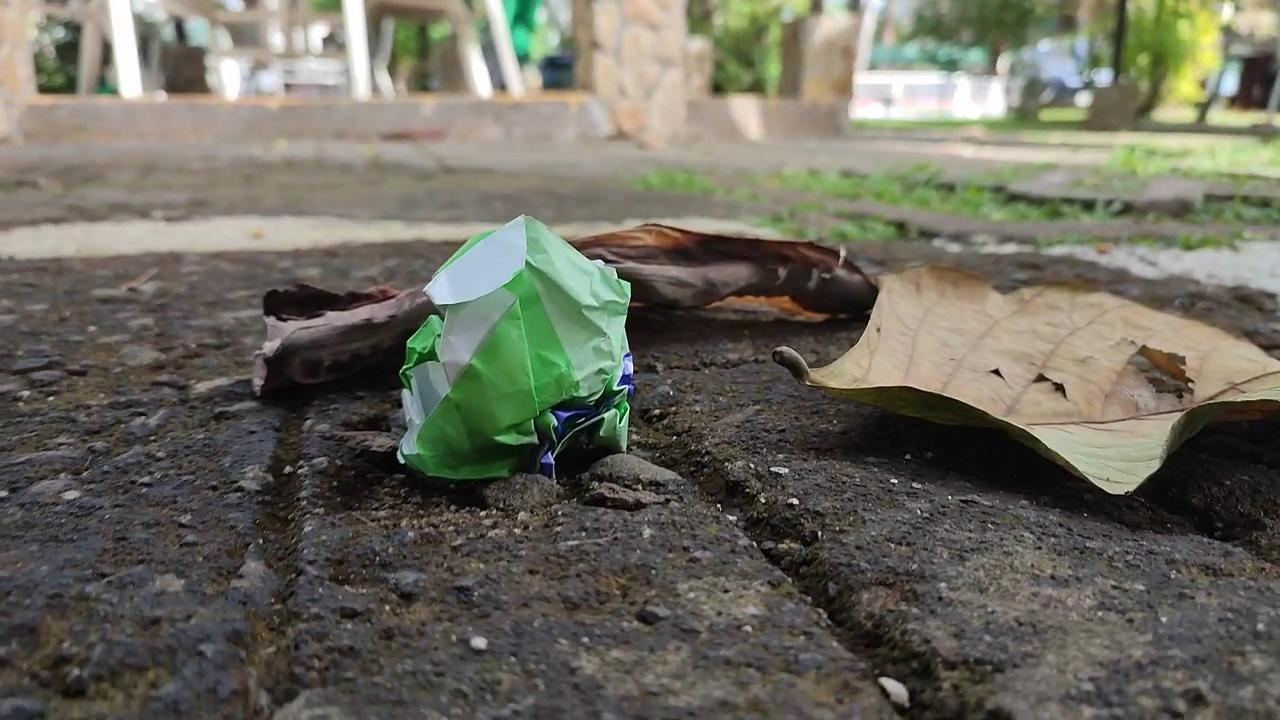Paper: (383, 204, 655, 504)
